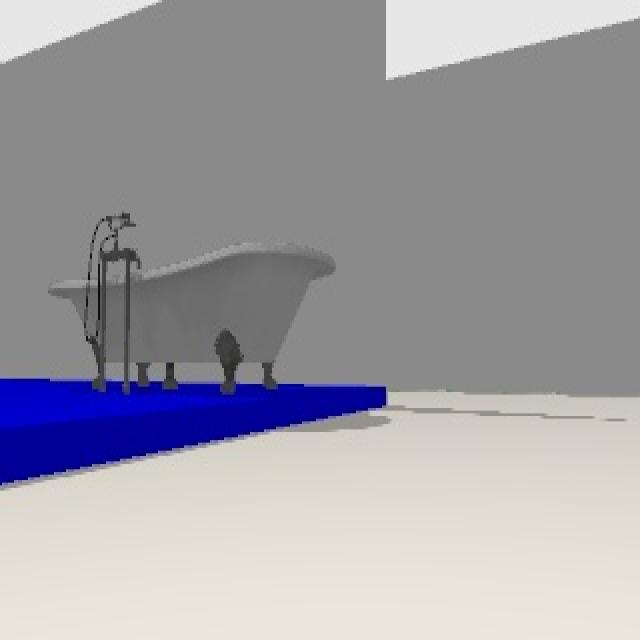bathtub: (48, 206, 340, 392)
